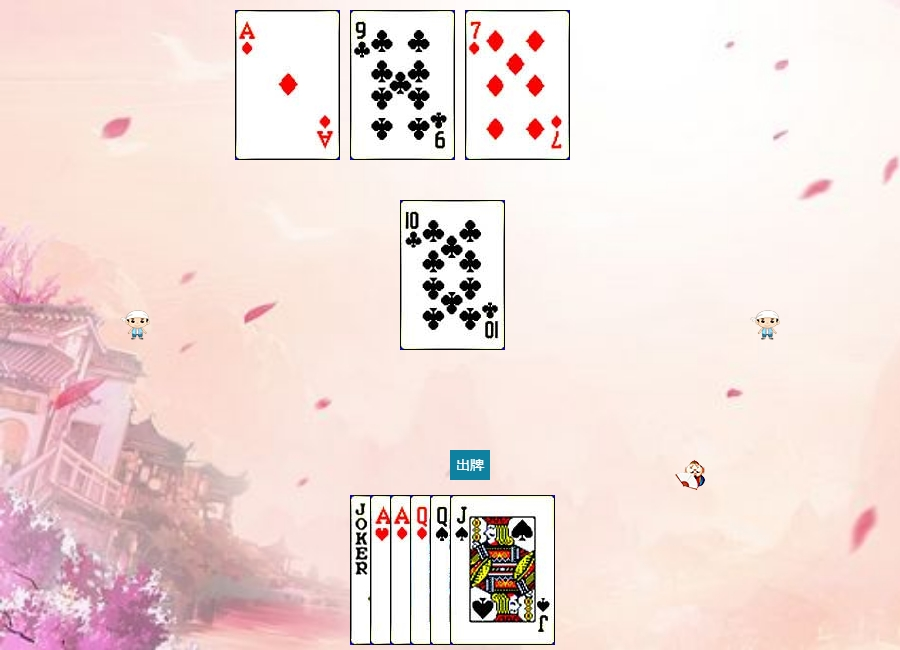10~2: (400, 200, 505, 350)
11~4: (450, 495, 555, 645)
12~1: (410, 495, 515, 645)
12~4: (430, 495, 535, 645)
14~1: (235, 10, 340, 160), (390, 495, 495, 645)
14~3: (370, 495, 475, 645)
17~3: (350, 495, 455, 645)
7~1: (465, 10, 570, 160)
9~2: (350, 10, 455, 160)
